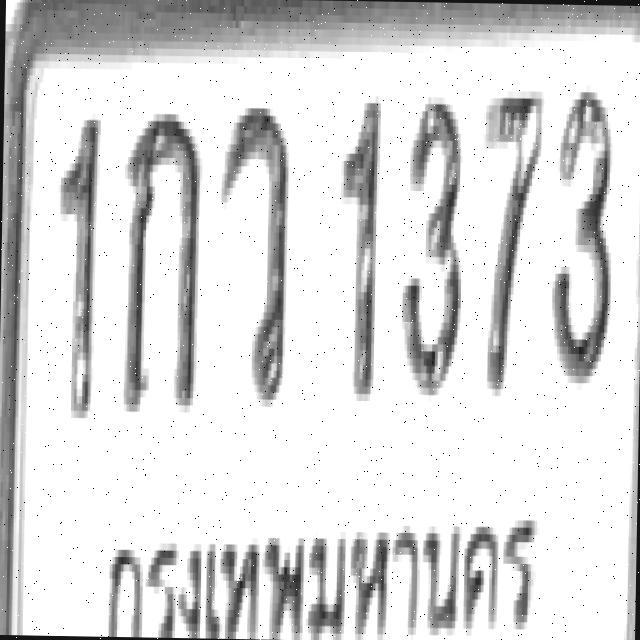1: (54, 111, 100, 418), (337, 95, 381, 401)
10GorGai: (120, 105, 200, 412)
3: (548, 84, 614, 383), (398, 96, 464, 395)
46WorWaen: (214, 100, 289, 407)
7: (478, 84, 542, 396)
Bangkok: (102, 499, 540, 640)
